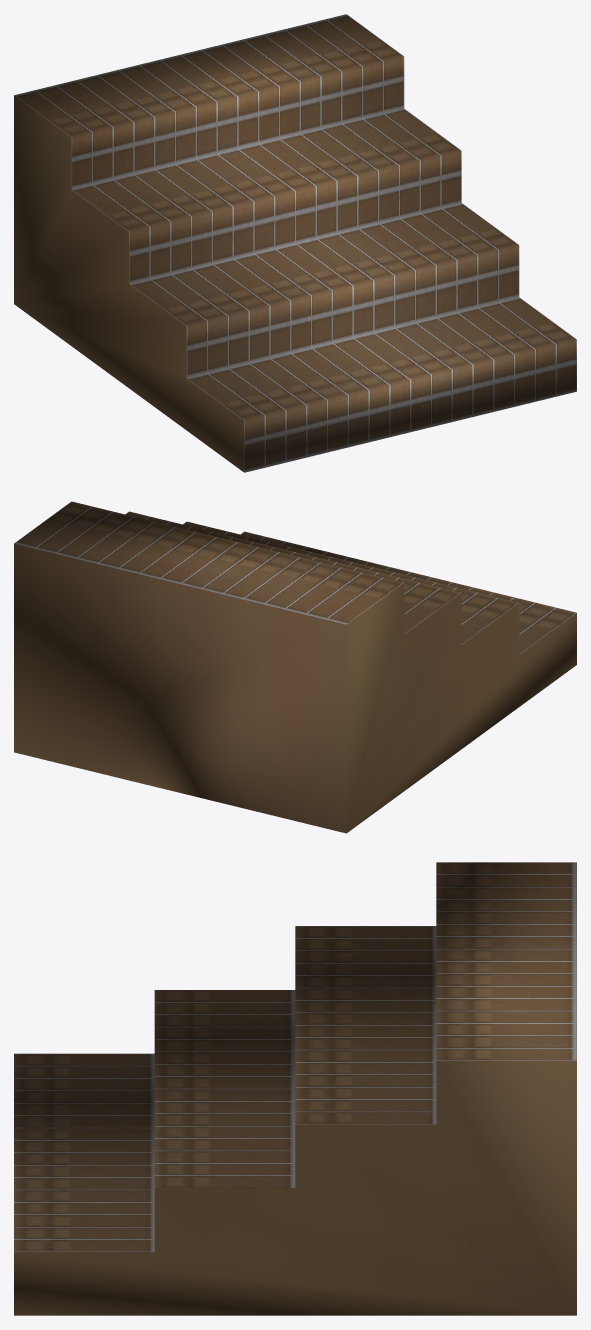
Rendered from set_floor_03_stairs_col.fbx.
3 views of the same model, one above another, from view 1: azimuth 30°, elevation 25°; view 2: azimuth 150°, elevation 25°; view 3: azimuth 270°, elevation 25° (orthographic). The views are drawn at different scales.
Visible parts, largest first — view 1: set_floor_03_stairs_col; view 2: set_floor_03_stairs_col; view 3: set_floor_03_stairs_col.
Part boxes in pixels (x1,y1,x2,y2): set_floor_03_stairs_col: (14,14,576,472); set_floor_03_stairs_col: (14,501,576,833); set_floor_03_stairs_col: (14,862,576,1315).
Size of the model in its own units: 100 by 60 by 120.
